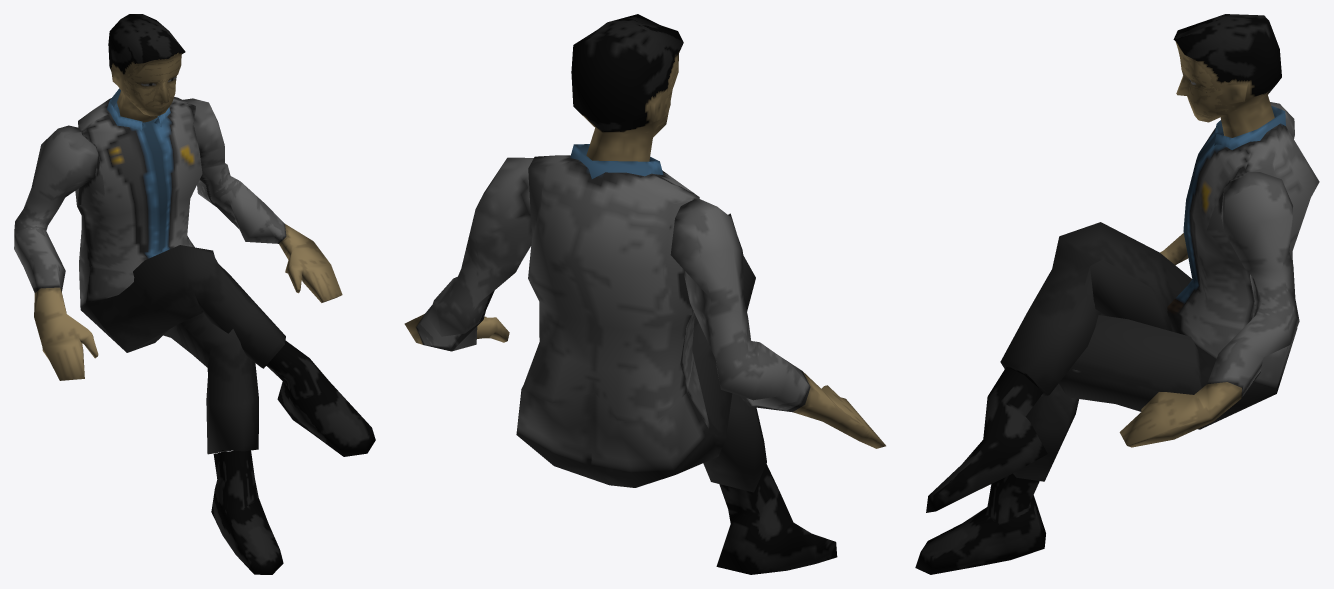
File: captain.fbx
3 views of the same model, side by side, from view 1: azimuth 30°, elevation 25°; view 2: azimuth 150°, elevation 25°; view 3: azimuth 270°, elevation 25° (orthographic). The views are drawn at different scales.
Parts seen in each view (by area): view 1: Officer_terran_1; view 2: Officer_terran_1; view 3: Officer_terran_1.
Part boxes in pixels (x1=…): Officer_terran_1: x1=14, y1=14, x2=375, y2=574; Officer_terran_1: x1=404, y1=14, x2=885, y2=574; Officer_terran_1: x1=915, y1=14, x2=1319, y2=574.
Size of the model in its own units: 95.28 by 140 by 93.33.
1 material, 1 textured.
